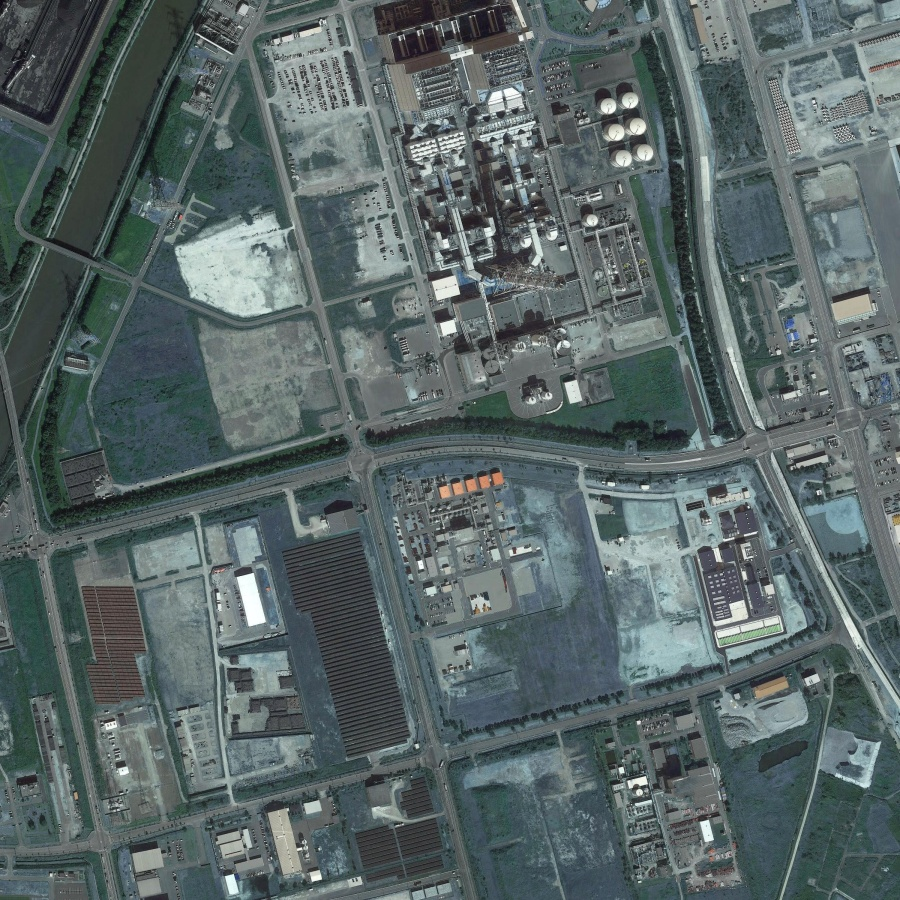PowerPlant: (385, 18, 665, 408)
